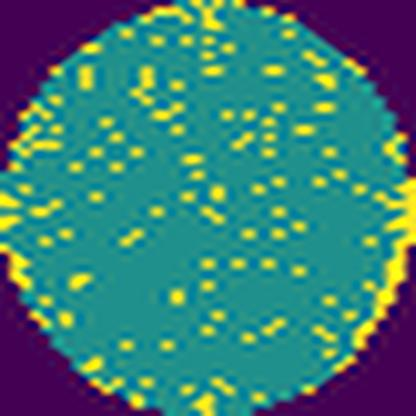Edge-Loc: (344, 172, 415, 354)
